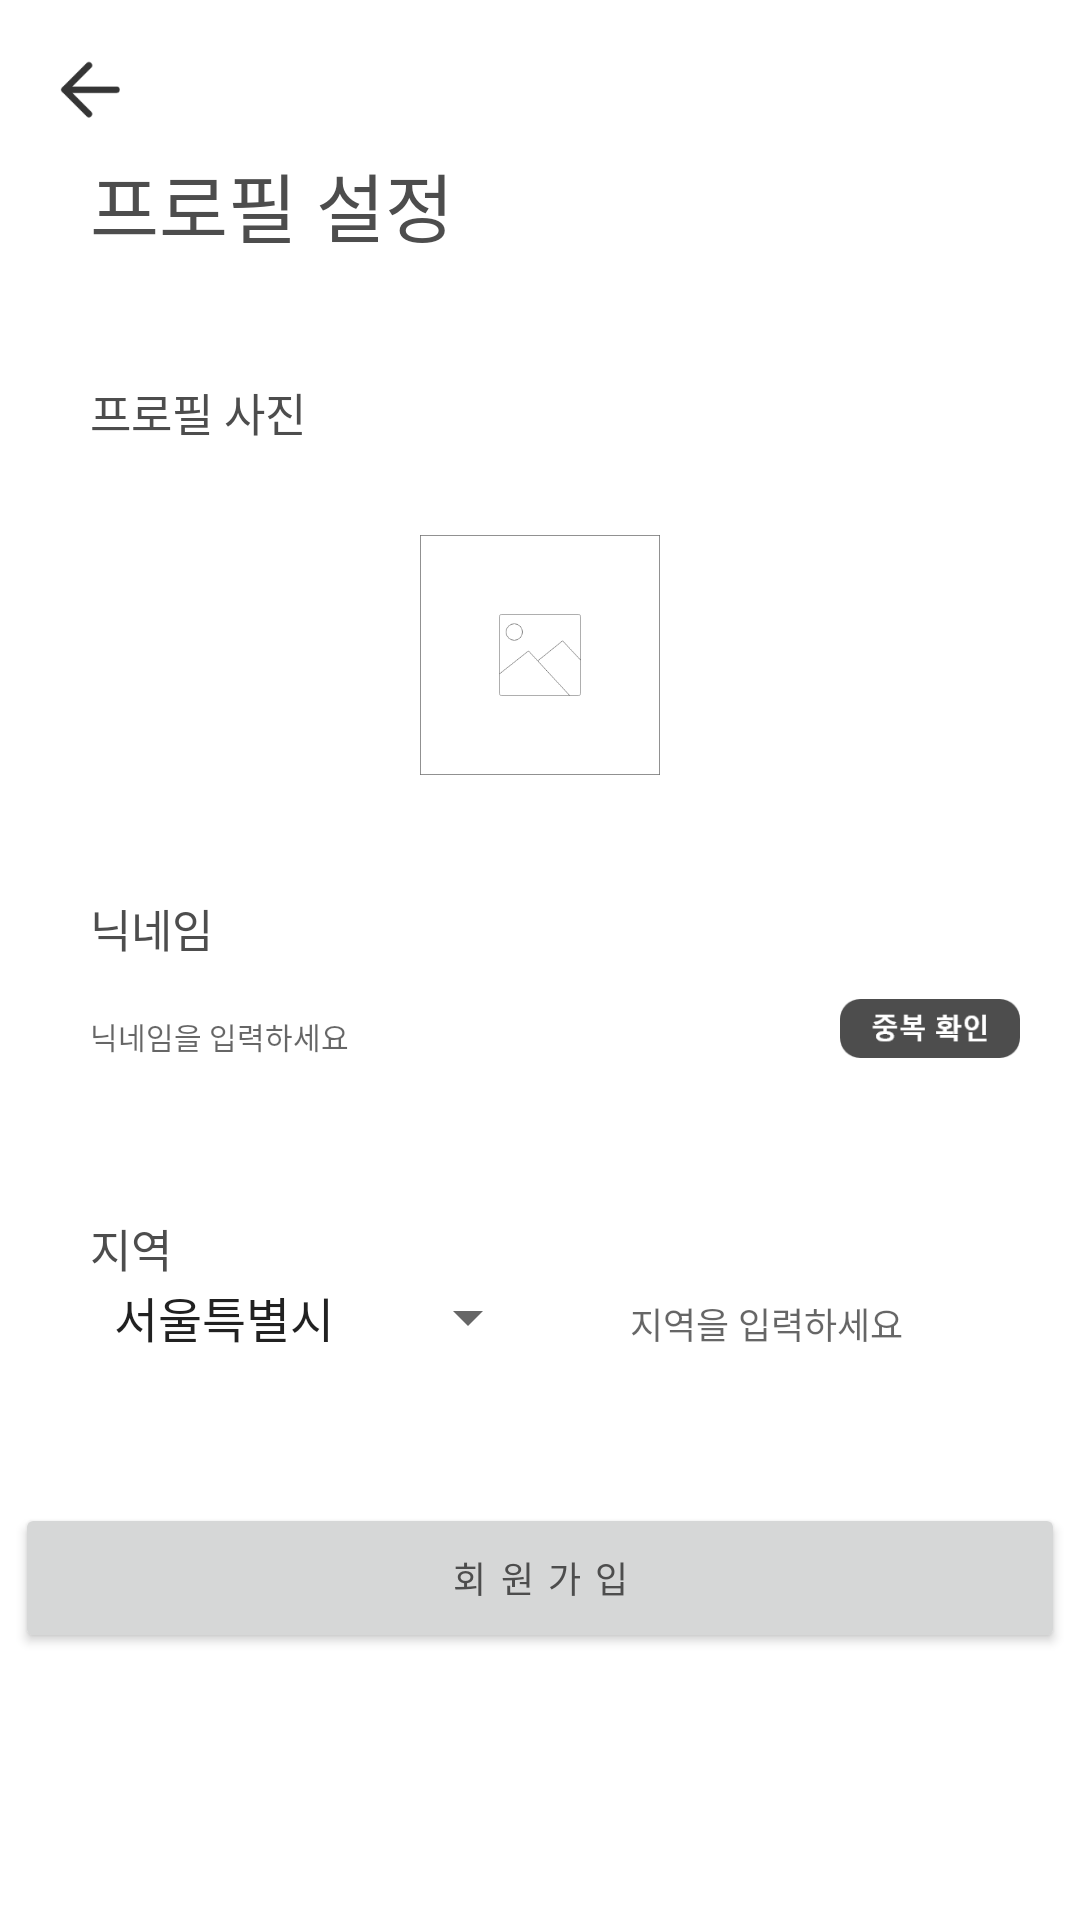

Point at icon controls on the screen. Image size 1080*1920, points as (x=x, y=y).
backbutton: (x=90, y=89)
